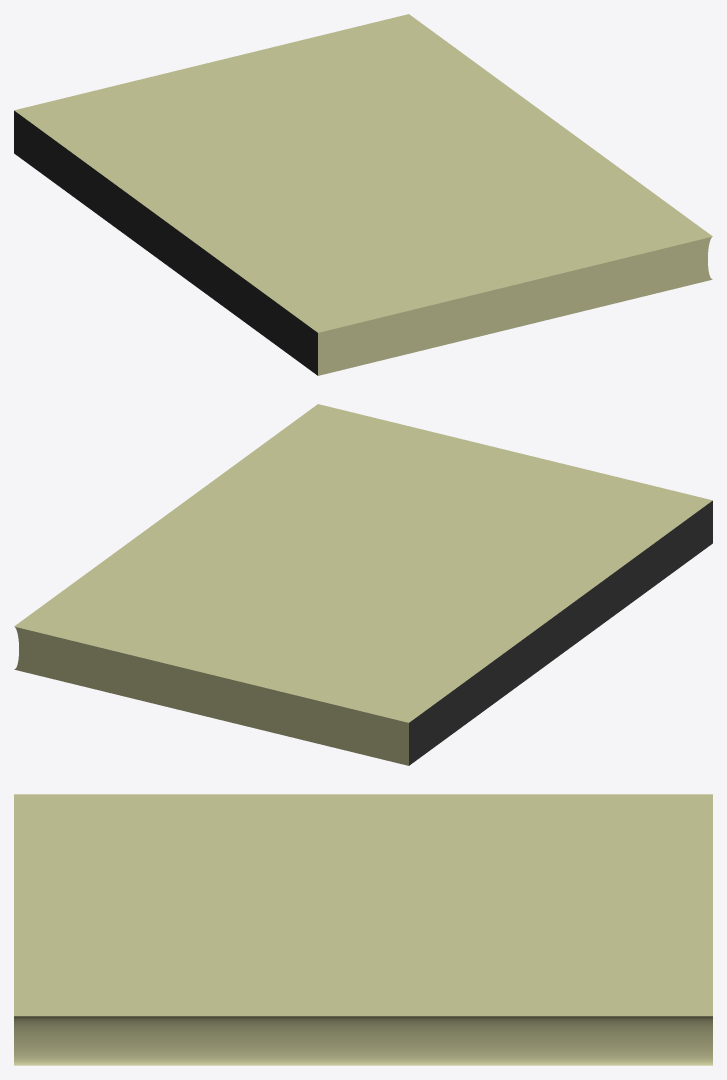
File: Pages.fbx
The picture shows the model from 3 angles, top to bottom: view 1: azimuth 30°, elevation 25°; view 2: azimuth 150°, elevation 25°; view 3: azimuth 270°, elevation 25°; orthographic projection. The views are drawn at different scales.
Parts seen in each view (by area): view 1: obj2; view 2: obj2; view 3: obj2.
Part boxes in pixels (left/top/right/bottom): obj2: left=14, top=14, right=712, bottom=375; obj2: left=14, top=404, right=712, bottom=765; obj2: left=14, top=794, right=712, bottom=1065.
Size of the model in its own units: 480 by 50 by 640.
